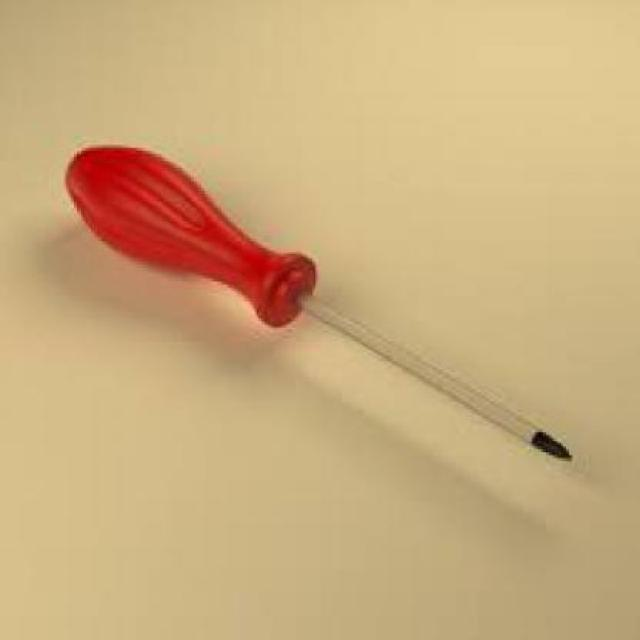screwdriver: (66, 139, 572, 464)
